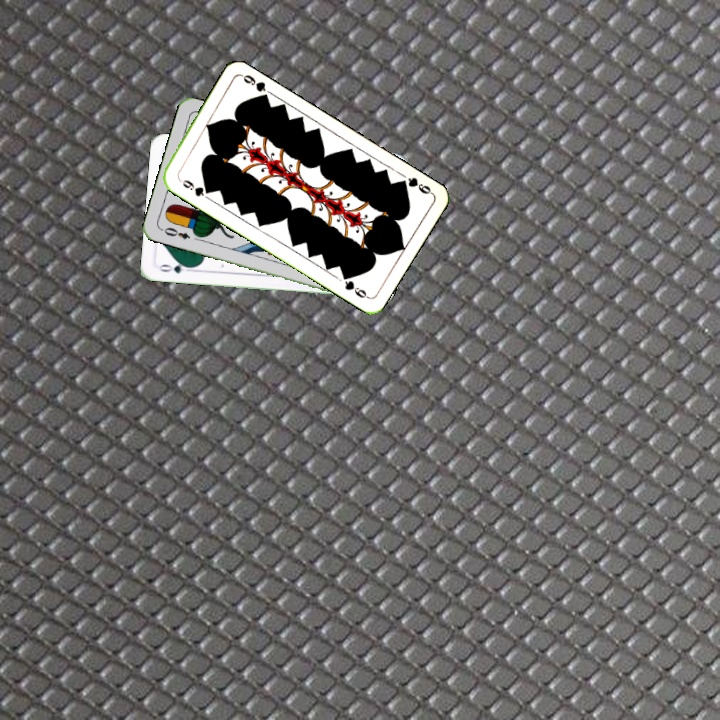EO: (160, 223, 193, 242)
G9: (174, 174, 213, 199), (395, 173, 435, 197)
GO: (155, 259, 196, 276)
